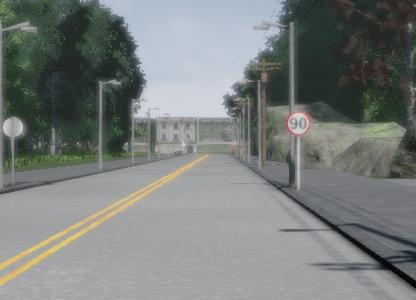Speed_90: (332, 72, 396, 137)
